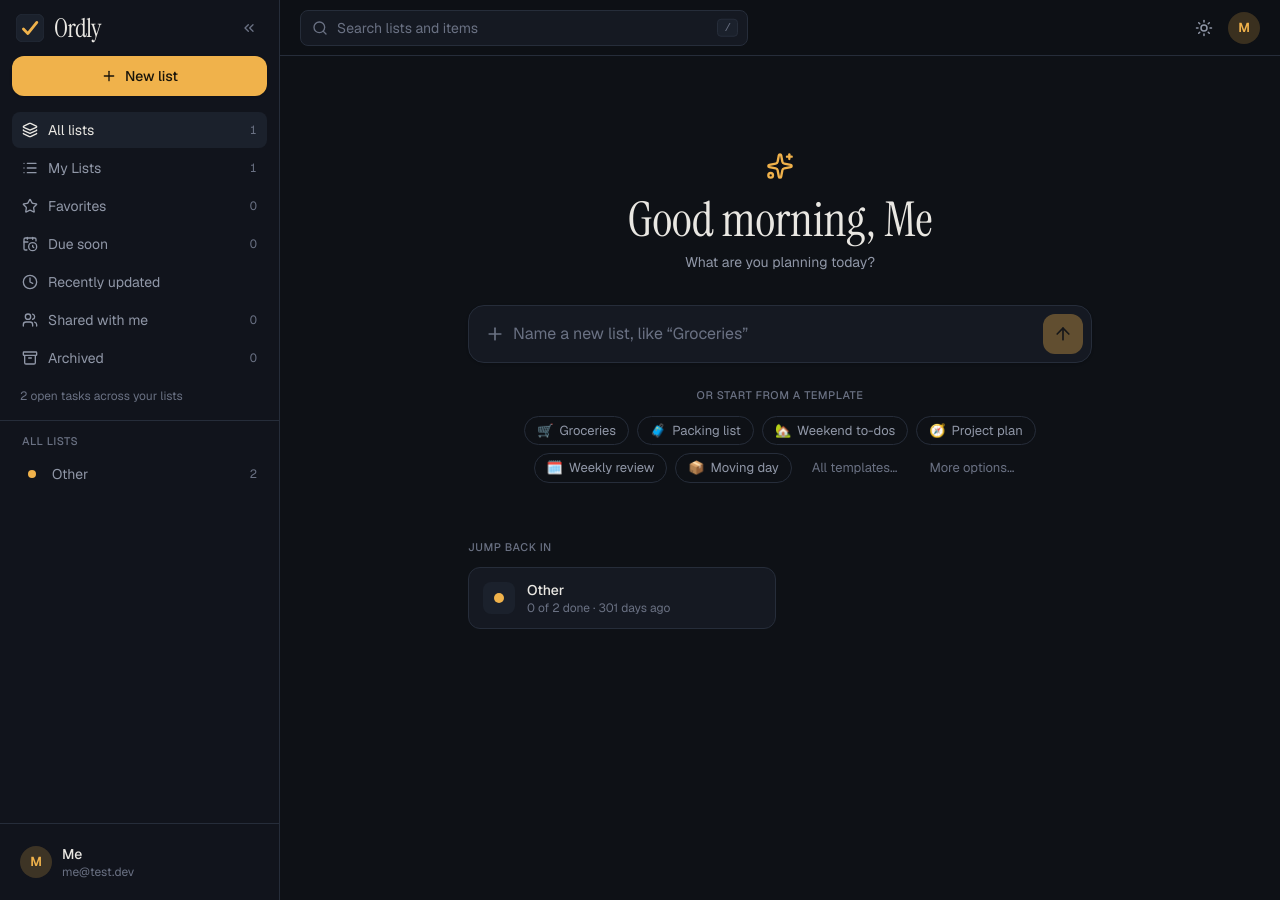
Test case: the New list dialog › an empty name is refused with a clear message
Expected: the field named "Name for a new list" is shown, [513, 314, 1035, 354]
Click the button with aria-label "create new list".
click(140, 76)  # box [12, 56, 267, 96]
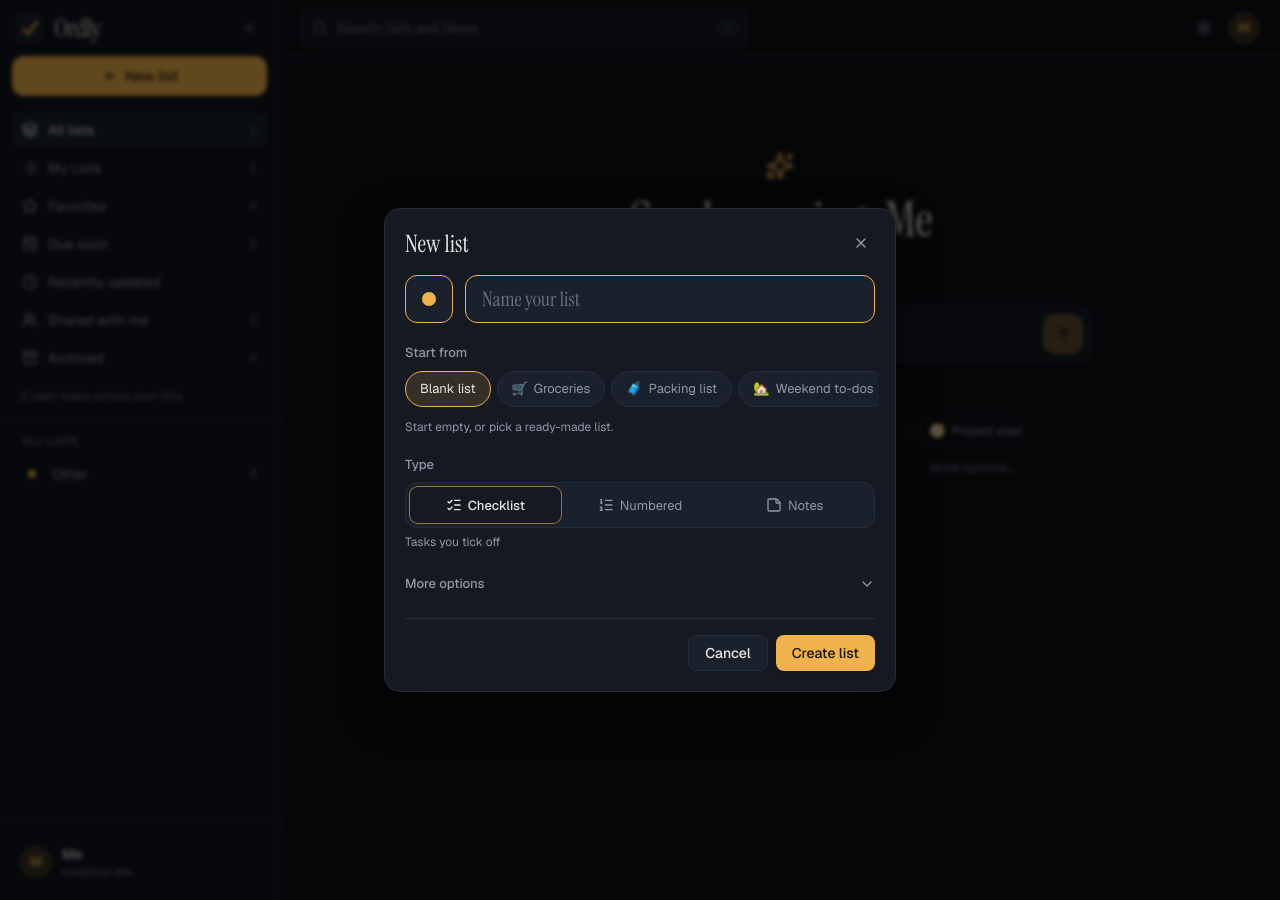
Click the button "Create list".
click(825, 653)  # box [776, 635, 875, 671]
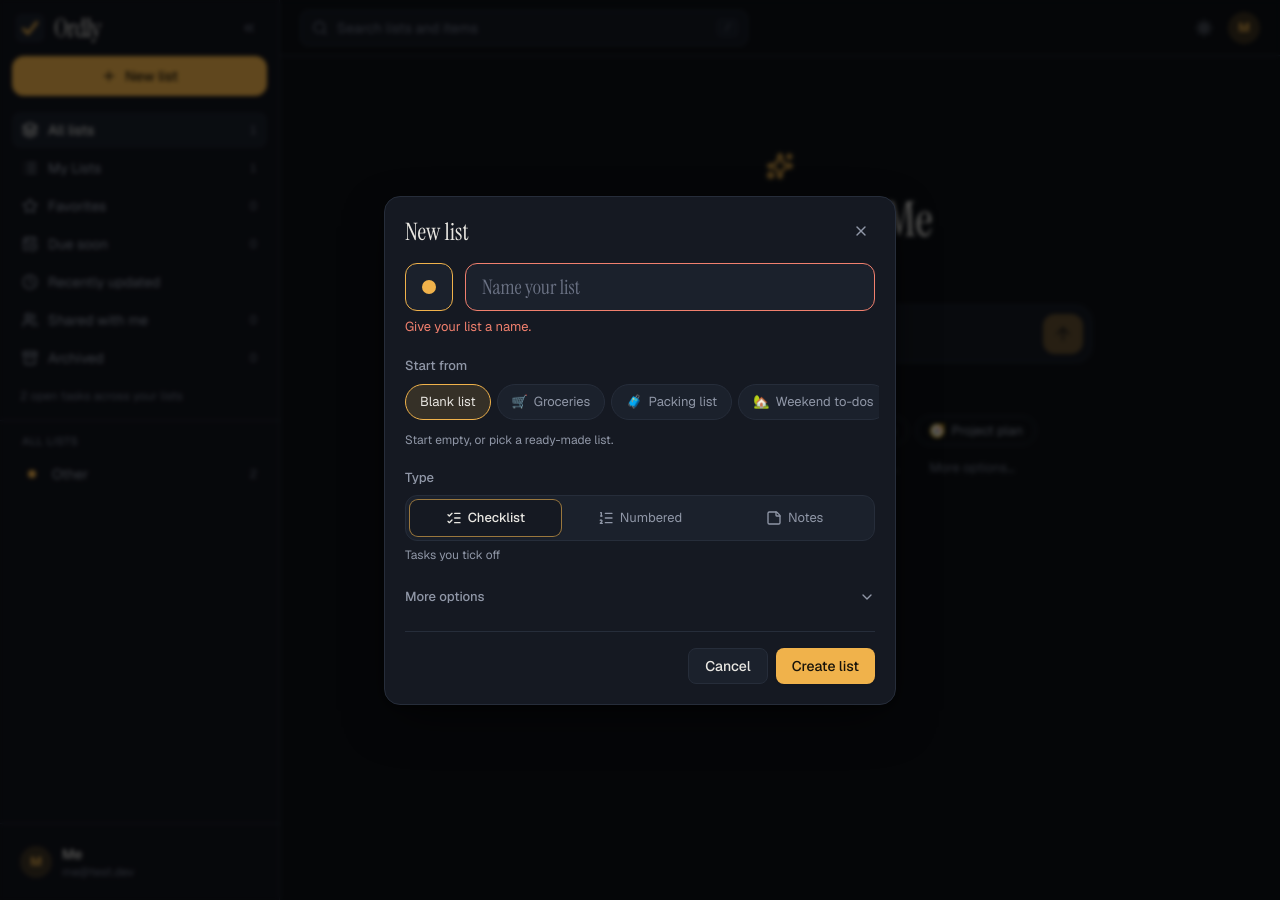
Expected: the message shows "Give your list a name", [405, 318, 531, 334]
